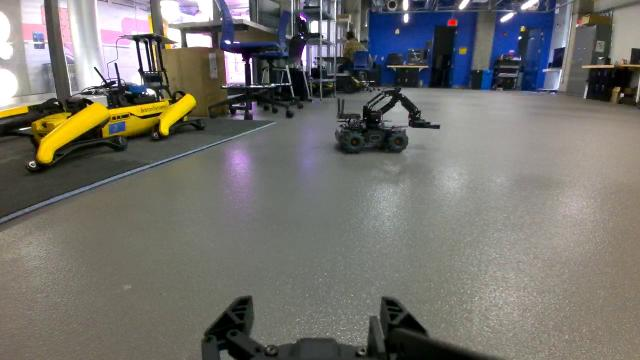robot: (332, 84, 444, 159)
